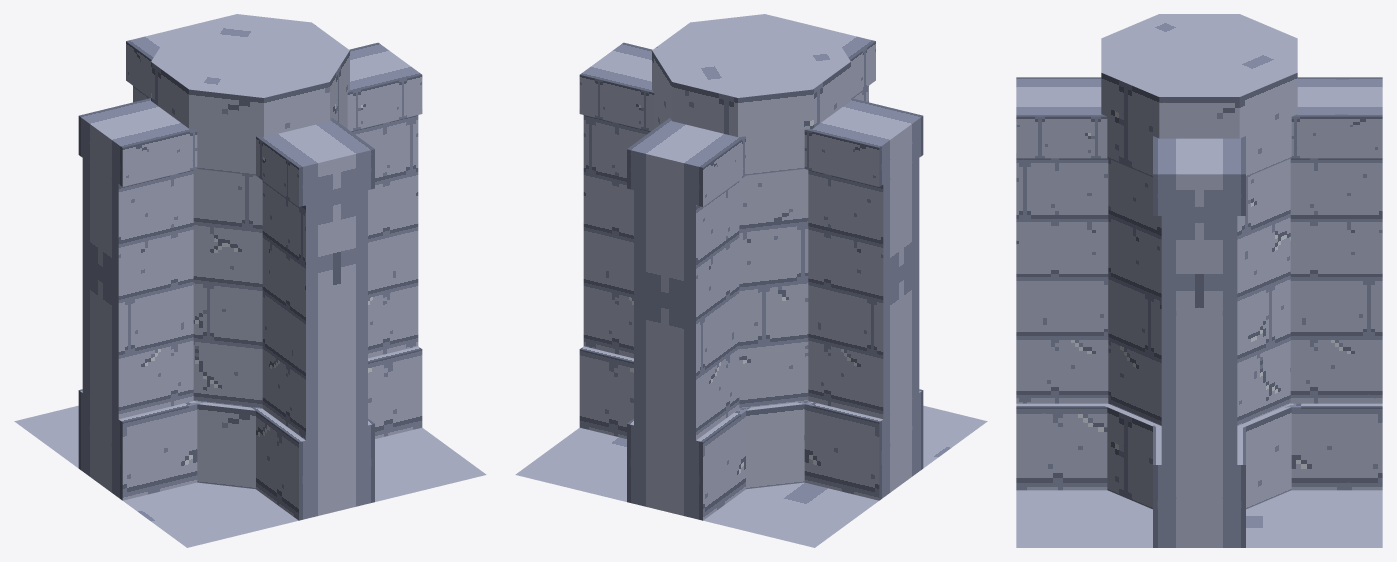
File: Pillar_Wall_4.fbx
3 views of the same model, side by side, from view 1: azimuth 30°, elevation 25°; view 2: azimuth 150°, elevation 25°; view 3: azimuth 270°, elevation 25° (orthographic). The views are drawn at different scales.
Visible parts, largest first — view 1: Pillar_Wall_4; view 2: Pillar_Wall_4; view 3: Pillar_Wall_4.
Part boxes in pixels (x1,y1,x2,y2): Pillar_Wall_4: (14, 14, 486, 547); Pillar_Wall_4: (515, 14, 987, 547); Pillar_Wall_4: (1016, 14, 1382, 547).
Size of the model in its own units: 200 by 250 by 200.
